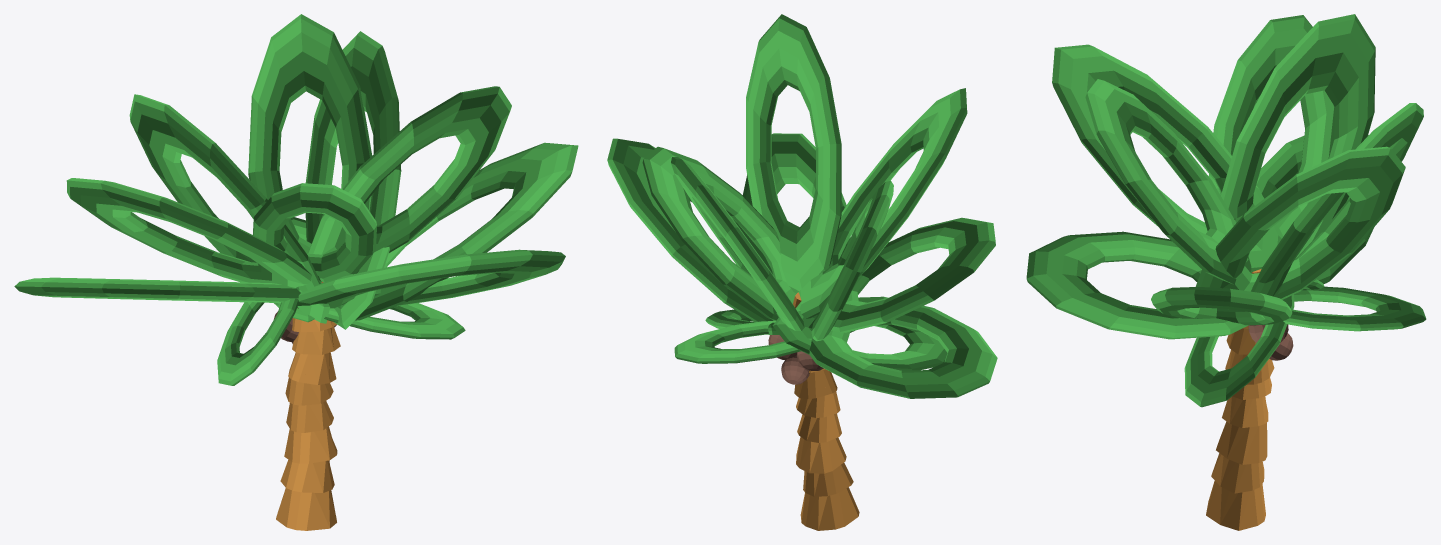
3 views of the same model, side by side, from view 1: azimuth 30°, elevation 25°; view 2: azimuth 150°, elevation 25°; view 3: azimuth 270°, elevation 25° (orthographic). The views are drawn at different scales.
Parts seen in each view (by area): view 1: mesh1356665178, mesh535016718, mesh622502346, mesh1938287682, mesh2050756178, mesh1461620187, mesh1009164451, mesh1650638901, mesh1338640261, mesh709102273, mesh1746188353, mesh307701505 (+6 smaller); view 2: mesh535016718, mesh1650638901, mesh1338640261, mesh1461620187, mesh622502346, mesh1938287682, mesh1356665178, mesh2050756178, mesh709102273, mesh1017430732, mesh1009164451, mesh307701505 (+7 smaller); view 3: mesh2050756178, mesh1461620187, mesh1009164451, mesh535016718, mesh1650638901, mesh622502346, mesh1356665178, mesh1938287682, mesh1746188353, mesh1017430732, mesh307701505, mesh1338640261 (+6 smaller).
Part boxes in pixels (x1=…): mesh1356665178: x1=248, y1=14, x2=372, y2=253; mesh535016718: x1=308, y1=86, x2=511, y2=254; mesh622502346: x1=66, y1=178, x2=321, y2=287; mesh1938287682: x1=355, y1=142, x2=578, y2=320; mesh2050756178: x1=129, y1=94, x2=329, y2=323; mesh1461620187: x1=305, y1=31, x2=401, y2=329; mesh1009164451: x1=298, y1=249, x2=565, y2=308; mesh1650638901: x1=253, y1=183, x2=376, y2=282; mesh1338640261: x1=14, y1=277, x2=300, y2=302; mesh709102273: x1=217, y1=298, x2=298, y2=385; mesh1746188353: x1=297, y1=303, x2=465, y2=339; mesh307701505: x1=276, y1=488, x2=336, y2=530; mesh535016718: x1=746, y1=14, x2=841, y2=293; mesh1650638901: x1=795, y1=88, x2=967, y2=318; mesh1338640261: x1=809, y1=296, x2=997, y2=398; mesh1461620187: x1=642, y1=146, x2=796, y2=320; mesh622502346: x1=831, y1=217, x2=995, y2=332; mesh1938287682: x1=607, y1=138, x2=774, y2=322; mesh1356665178: x1=671, y1=157, x2=804, y2=331; mesh2050756178: x1=811, y1=181, x2=893, y2=341; mesh709102273: x1=772, y1=308, x2=947, y2=370; mesh1017430732: x1=674, y1=320, x2=800, y2=363; mesh1009164451: x1=742, y1=133, x2=850, y2=261; mesh307701505: x1=800, y1=487, x2=859, y2=530; mesh2050756178: x1=1221, y1=14, x2=1375, y2=260; mesh1461620187: x1=1195, y1=146, x2=1405, y2=299; mesh1009164451: x1=1026, y1=231, x2=1248, y2=339; mesh535016718: x1=1085, y1=79, x2=1251, y2=284; mesh1650638901: x1=1052, y1=44, x2=1283, y2=273; mesh622502346: x1=1208, y1=15, x2=1334, y2=236; mesh1356665178: x1=1251, y1=103, x2=1423, y2=297; mesh1938287682: x1=1151, y1=287, x2=1292, y2=325; mesh1746188353: x1=1184, y1=294, x2=1294, y2=407; mesh1017430732: x1=1283, y1=286, x2=1426, y2=331; mesh307701505: x1=1206, y1=480, x2=1265, y2=530; mesh1338640261: x1=1256, y1=135, x2=1373, y2=284.
Size of the model in its own units: 0.7157 by 0.6503 by 0.4851.
